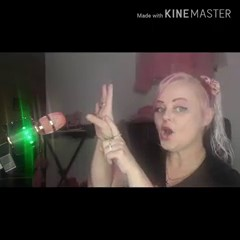Y: (85, 79, 137, 176)
